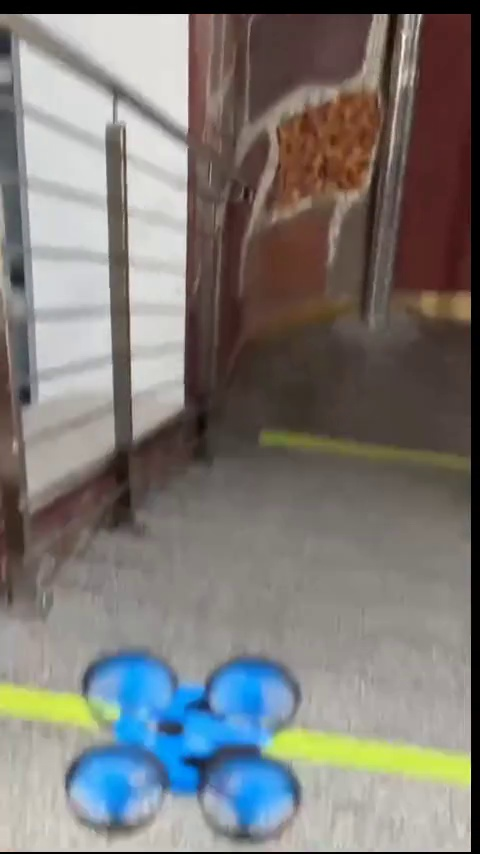drone: (69, 656, 303, 826)
